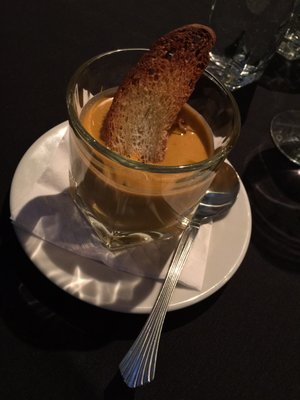salad: (116, 160, 240, 390)
